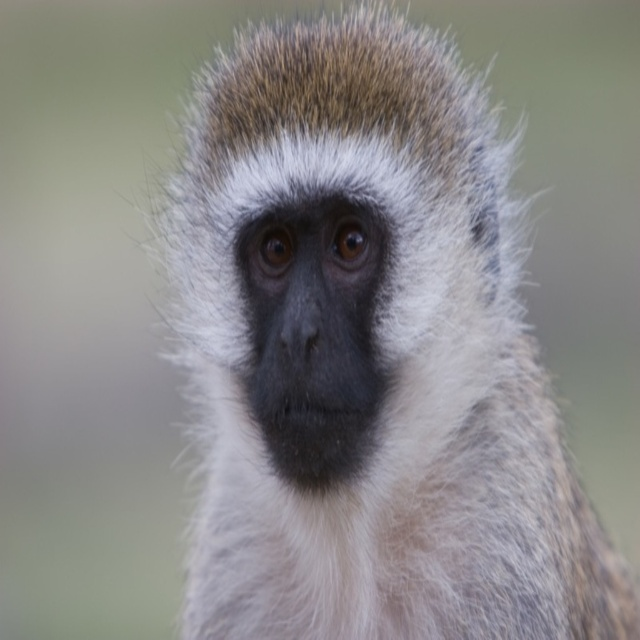Monkey: (111, 0, 639, 638)
